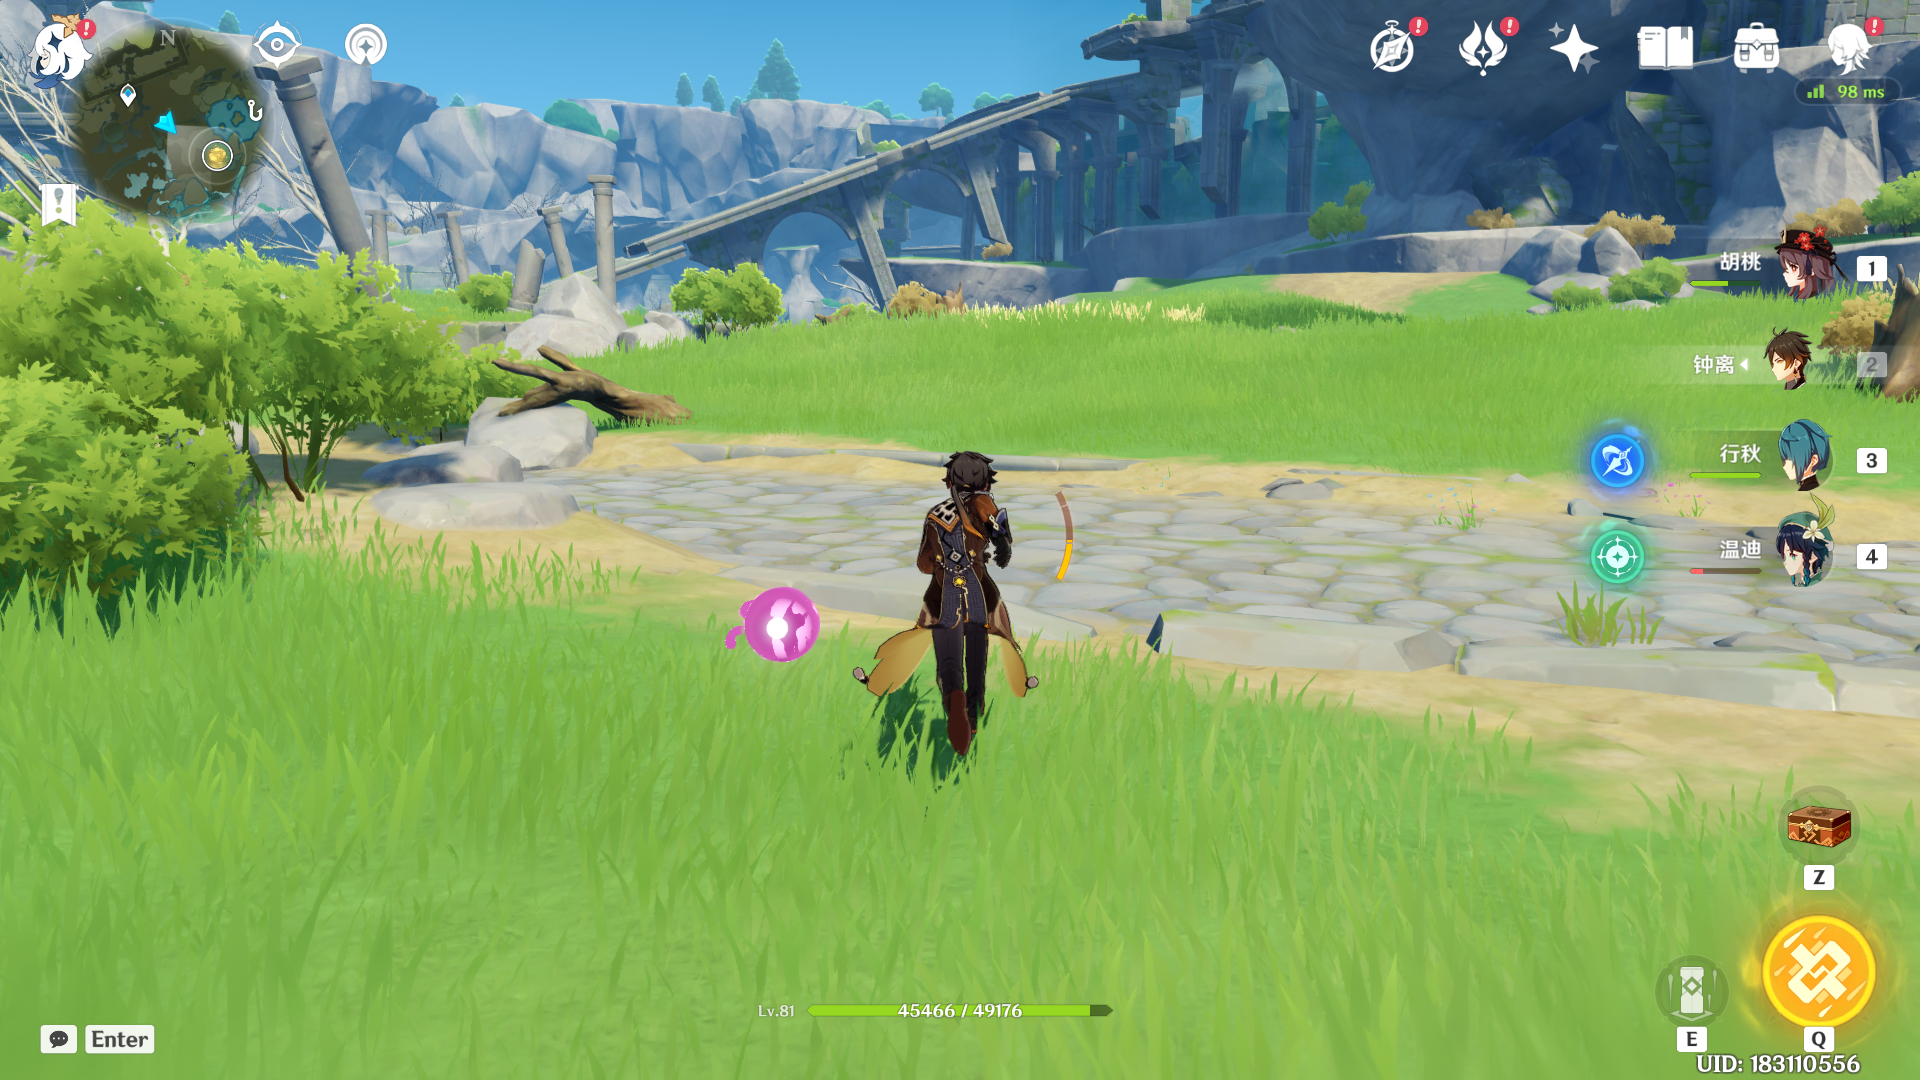character: (829, 415, 1095, 775)
